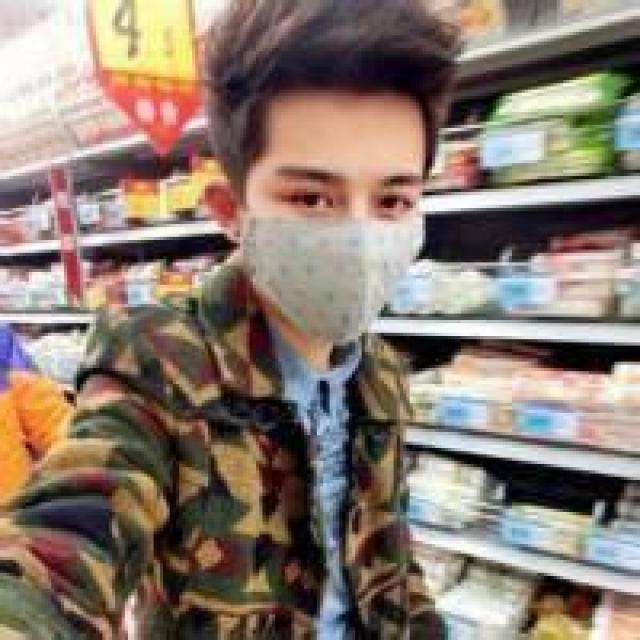mask: (243, 90, 429, 332)
